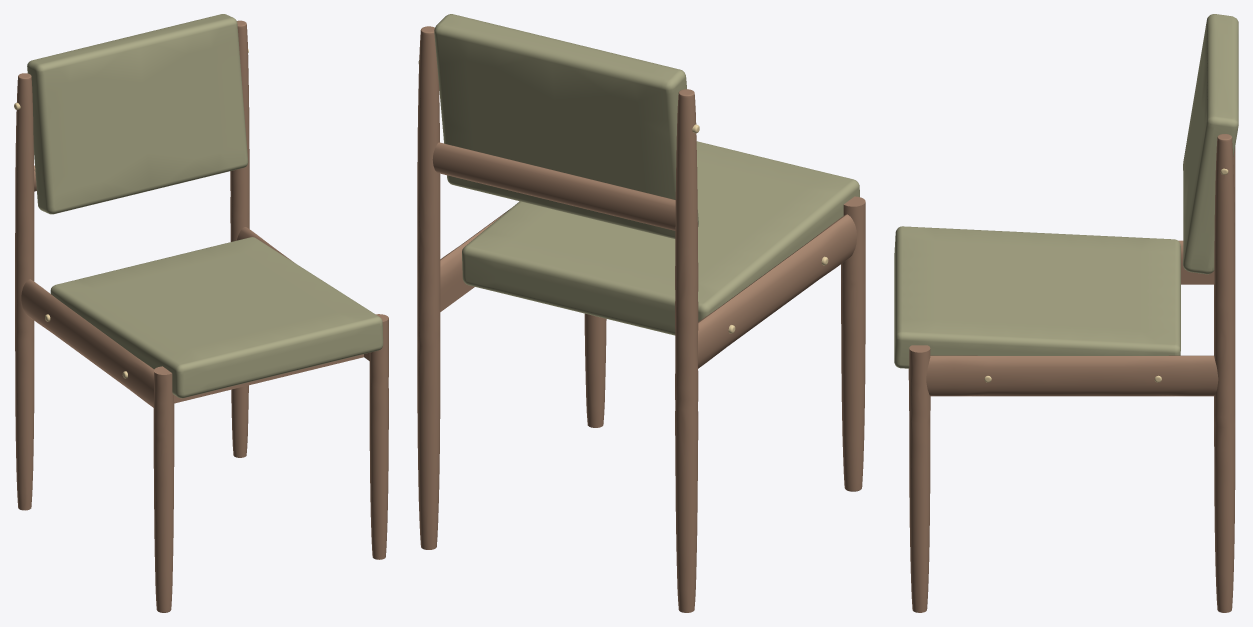
File: pivot-estofada-draco.glb
The picture shows the model from 3 angles, left to right: view 1: azimuth 30°, elevation 25°; view 2: azimuth 150°, elevation 25°; view 3: azimuth 270°, elevation 25°; orthographic projection. The views are drawn at different scales.
Parts seen in each view (by area): view 1: tecido, madeira; view 2: tecido, madeira; view 3: tecido, madeira.
Boxes of the visible parts, x1,y1,x2,y2 form: tecido: [27, 14, 383, 398]; madeira: [15, 20, 388, 612]; tecido: [434, 14, 859, 335]; madeira: [417, 26, 865, 612]; tecido: [894, 14, 1238, 368]; madeira: [908, 134, 1235, 612].
Bounding box in the file's own units: 0.4505 × 0.82 × 0.5256.
